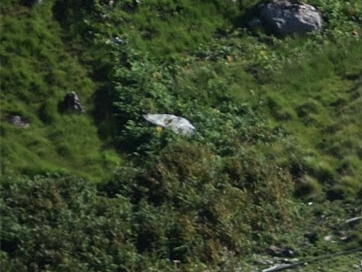white_in_green: (118, 87, 216, 162)
